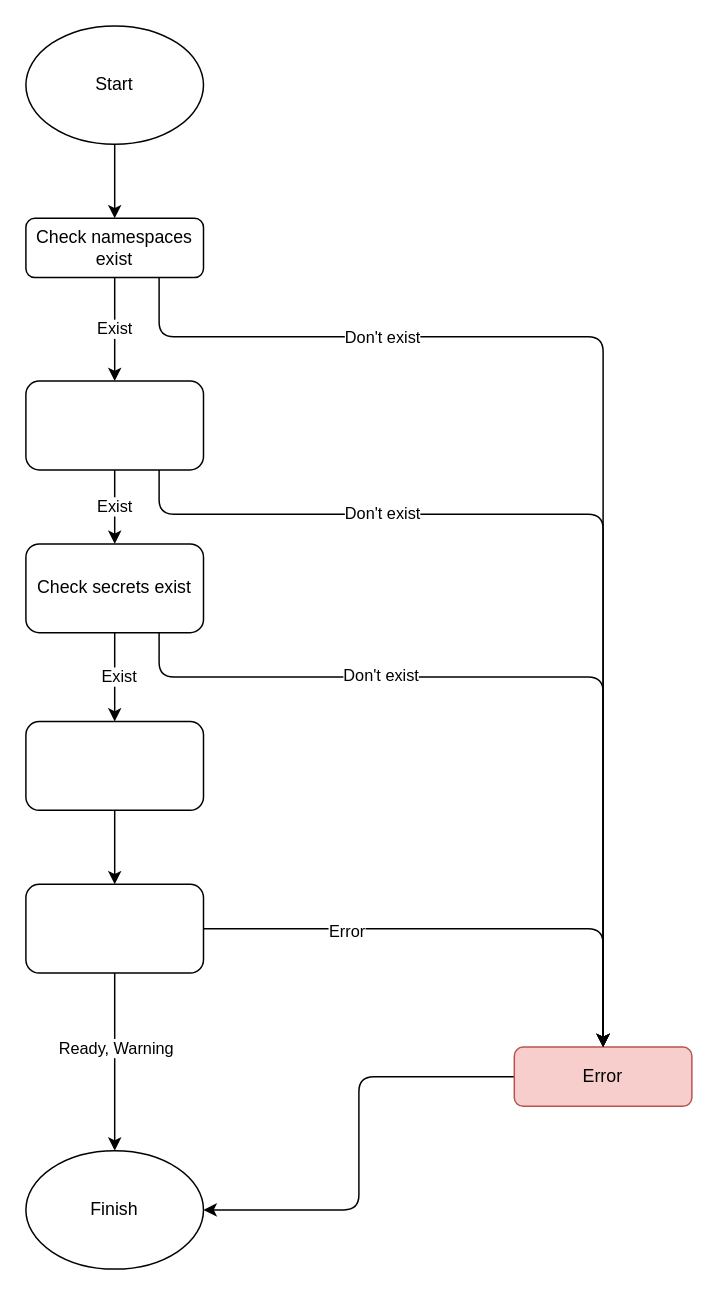
Image size: 718x1295. Some labels were removed from this diagram. Each missing label, with the box of its shape:
Check configMaps exist: (24, 380, 204, 470)
Check deployment status: (24, 883, 204, 973)
Deploy Custom Resource: (24, 720, 204, 810)
